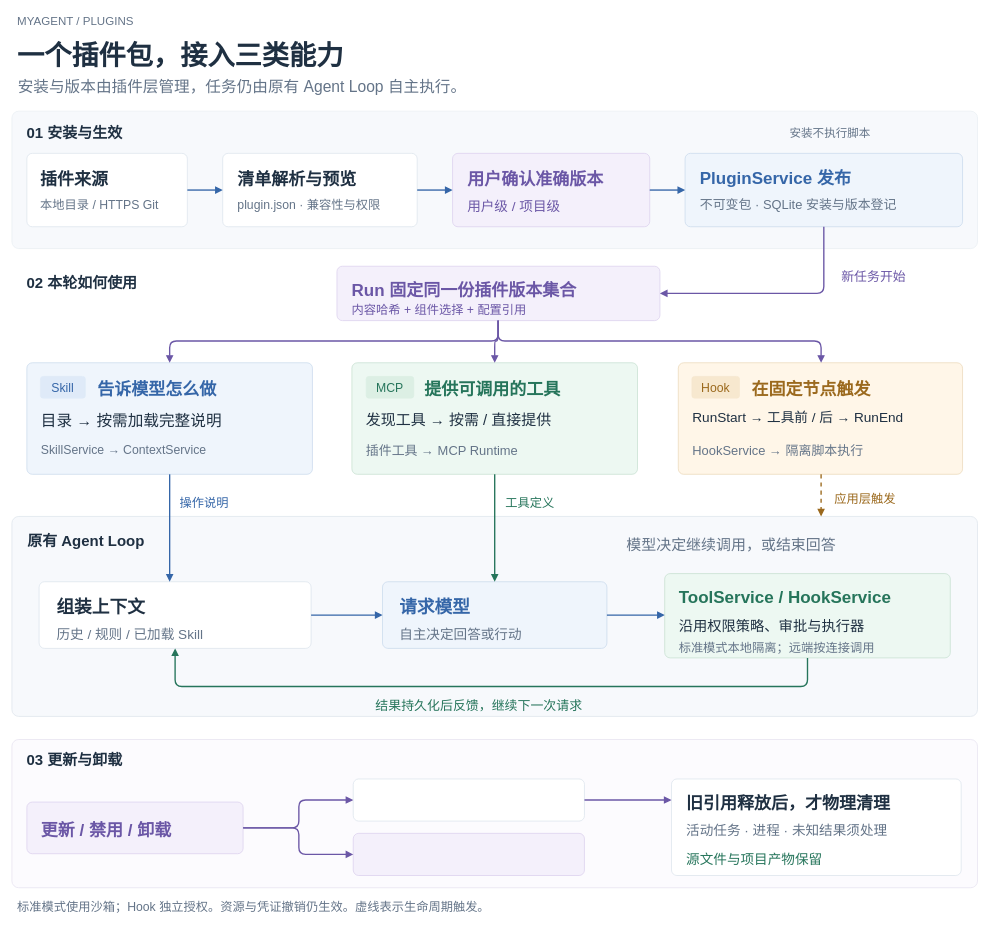
Some shapes in this 989 by 928 pixel diagram are drawn without their labels. The box of each missing label's shape, as (x1, y1, x2, y2) in pixels:
已有 Run：继续使用旧版本: (353, 778, 584, 821)
新 Run：新版本 / 不再加载: (353, 833, 584, 876)
